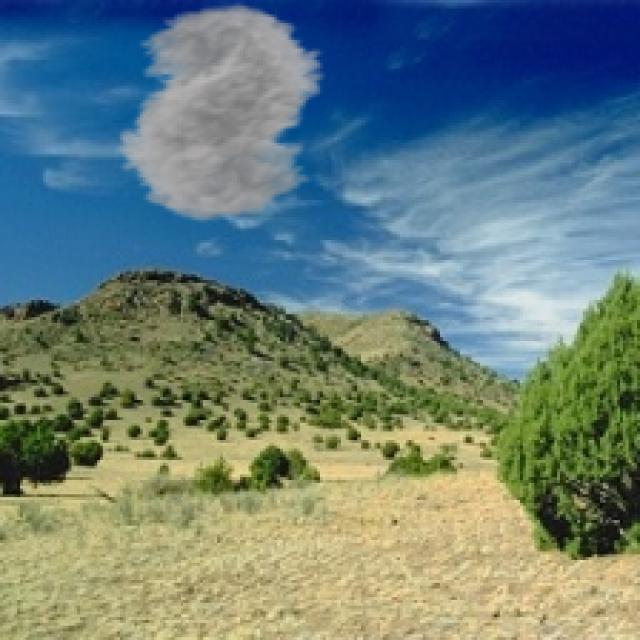smoke: (97, 3, 352, 223)
